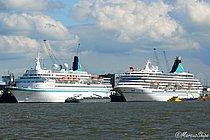Ship: (8, 38, 119, 106), (114, 44, 207, 108)
